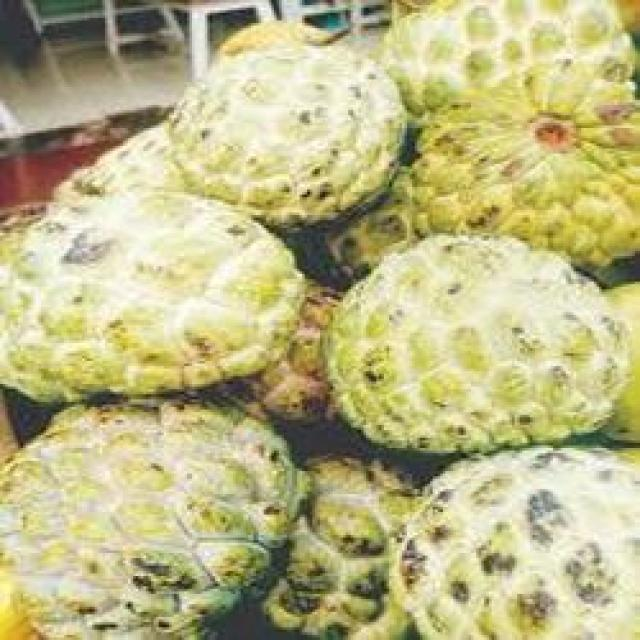apple: (10, 405, 300, 627), (328, 225, 617, 433), (3, 195, 302, 396), (376, 443, 640, 640), (169, 18, 404, 235)
